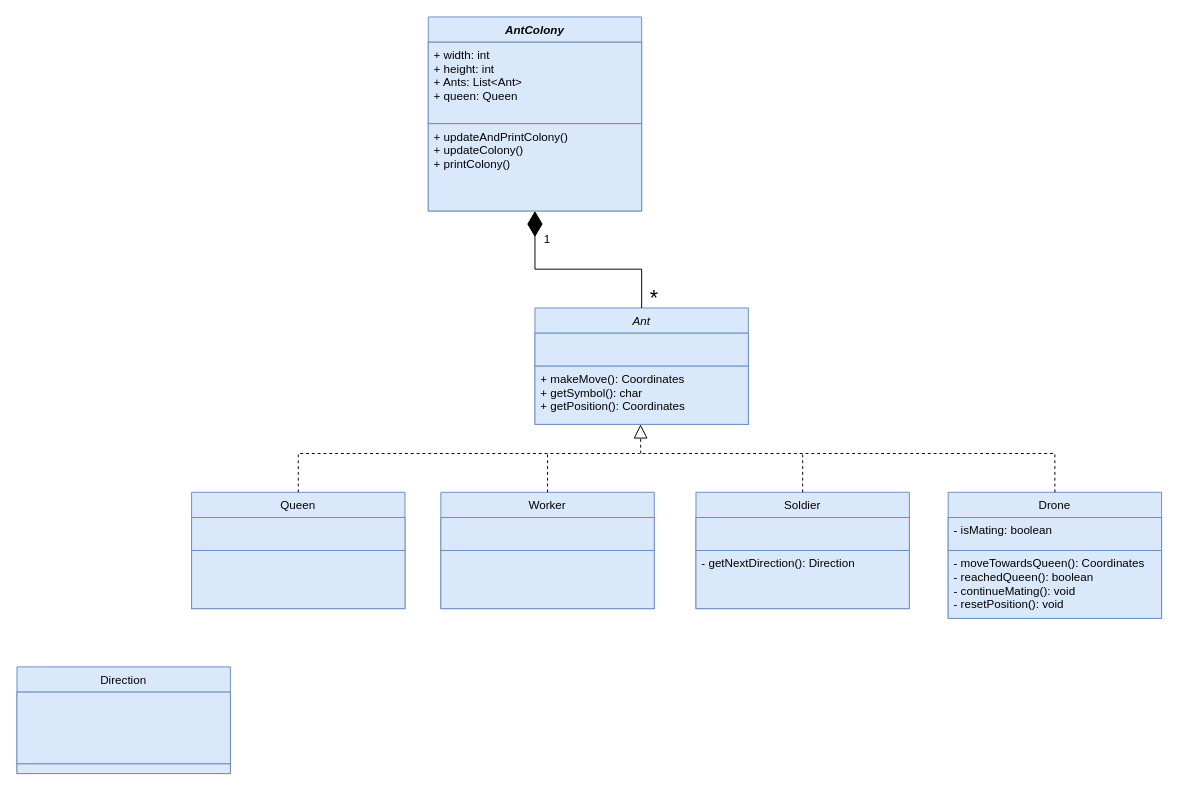
This 1179x791 diagram has some shape labels left out. The shapes that lost their labels are listed below. From the top down, each one's centre as x and y in pixels, then its label:
At point 641,349: "- position: Coordinates".
At point 298,533: "+ matingCooldown: int".
At point 802,533: "- lastStepDirection: Direction".
At point 298,579: "+ isInMatingMood(): boolean + mating(): void".
At point 547,579: "isValidMove(Coordinate): boolean".
At point 123,727: "+ North + East + South + West".
